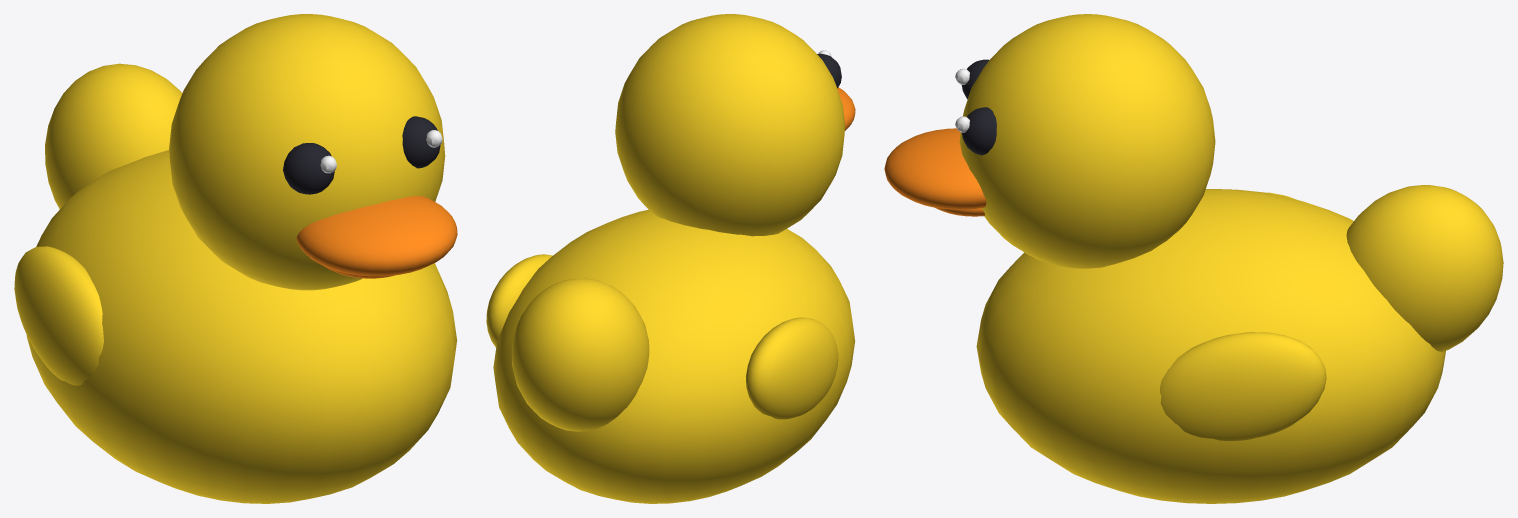
The model's file is RubberDuck.fbx.
The picture shows the model from 3 angles, left to right: view 1: azimuth 30°, elevation 25°; view 2: azimuth 150°, elevation 25°; view 3: azimuth 270°, elevation 25°; orthographic projection. The views are drawn at different scales.
Parts seen in each view (by area): view 1: Yellow, Beak, Dark, White; view 2: Yellow; view 3: Yellow, Beak, Dark.
Part boxes in pixels (x1=…): Yellow: x1=14, y1=14, x2=457, y2=503; Beak: x1=296, y1=196, x2=457, y2=278; Dark: x1=283, y1=116, x2=440, y2=194; White: x1=320, y1=130, x2=442, y2=173; Yellow: x1=486, y1=14, x2=855, y2=503; Yellow: x1=959, y1=14, x2=1503, y2=503; Beak: x1=884, y1=128, x2=986, y2=216; Dark: x1=961, y1=59, x2=996, y2=155.
Bounding box in the file's own units: 105 × 134 × 165.
